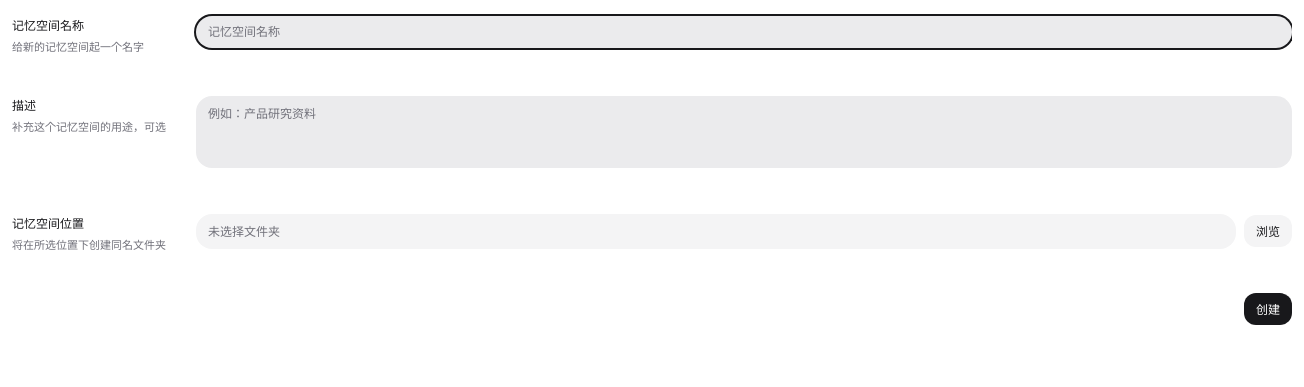
Test: CreateWorkspaceForm › validates on submit instead of trapping users in a disabled button
The image size is (1304, 387).
Click the button "创建".
click(1268, 309)  # box x1=1244 y1=293 x2=1292 y2=325
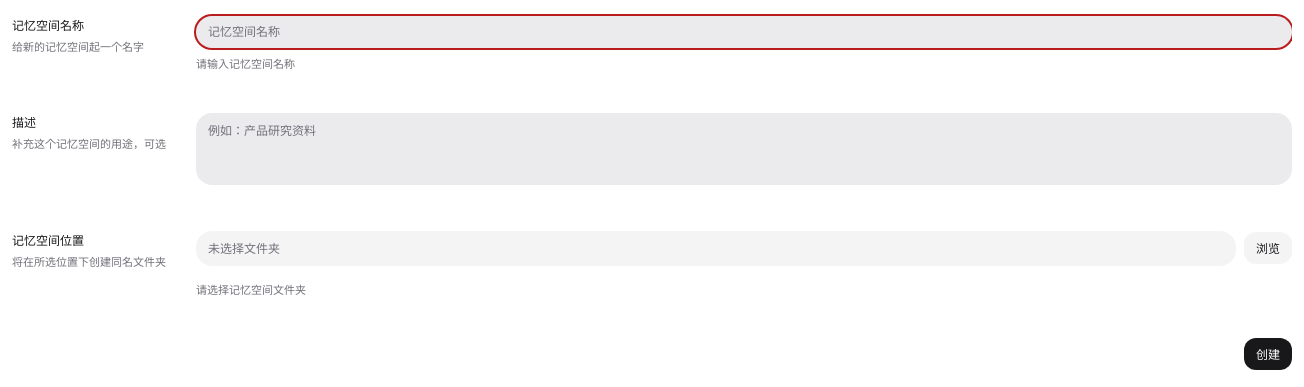
Check: the text "请输入记忆空间名称" is shown, box x1=196 y1=57 x2=295 y2=71
Check: the text "请选择记忆空间文件夹" is shown, box x1=196 y1=283 x2=306 y2=297
